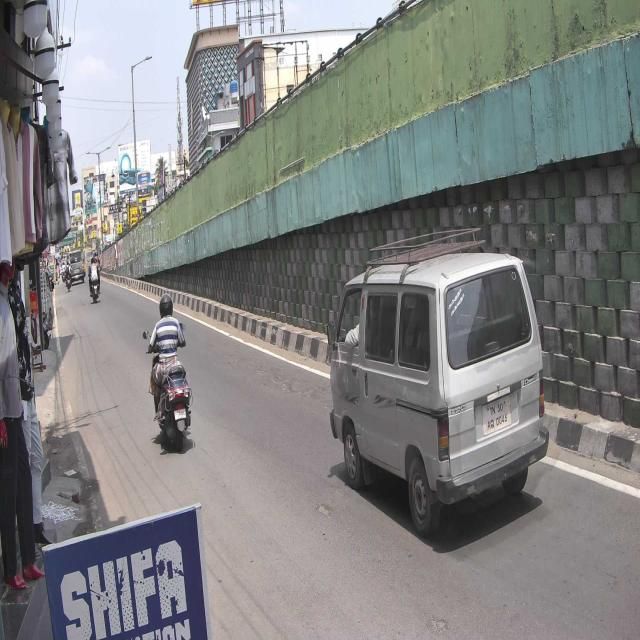single_rider: (141, 292, 194, 453)
